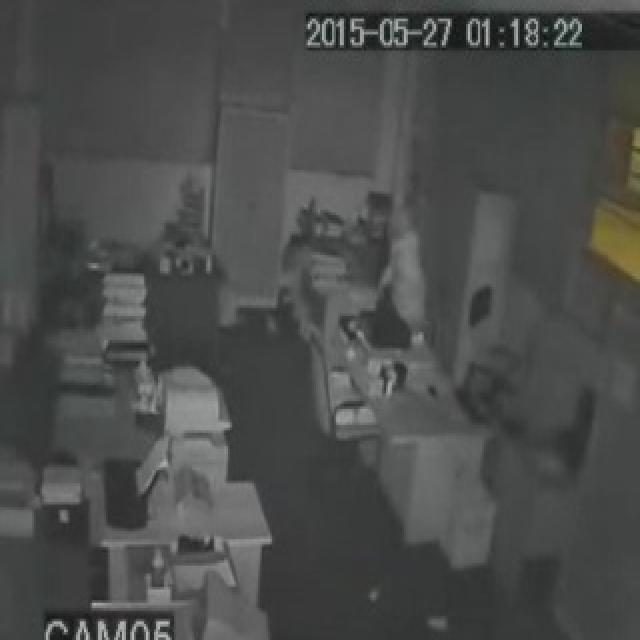thief: (372, 199, 441, 351)
